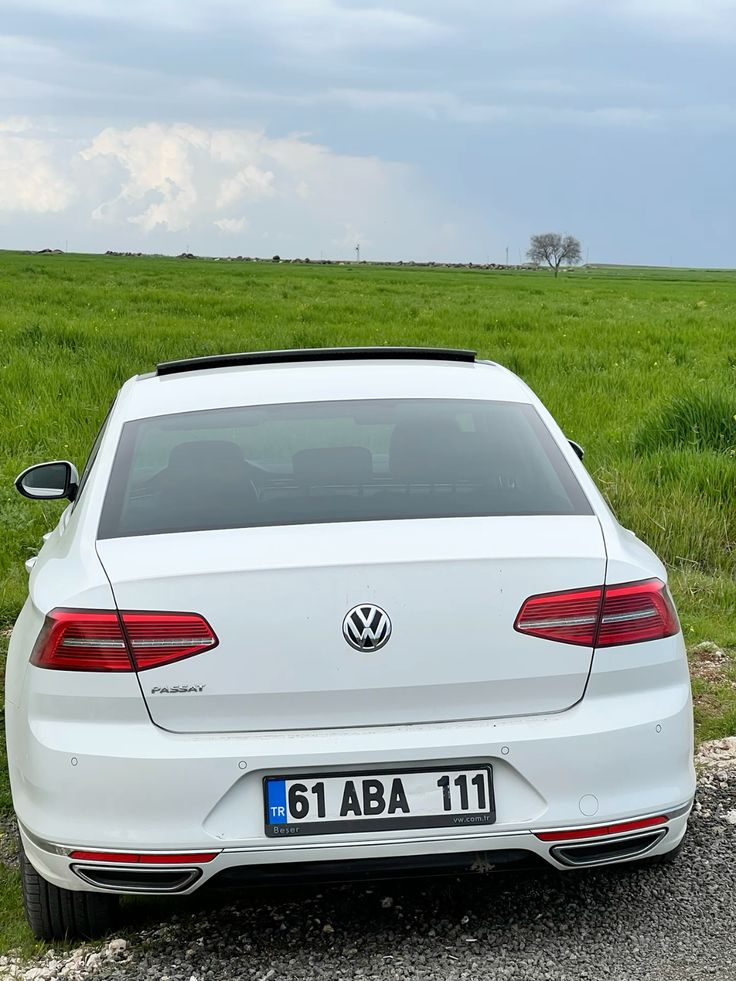plate: (261, 765, 497, 841)
